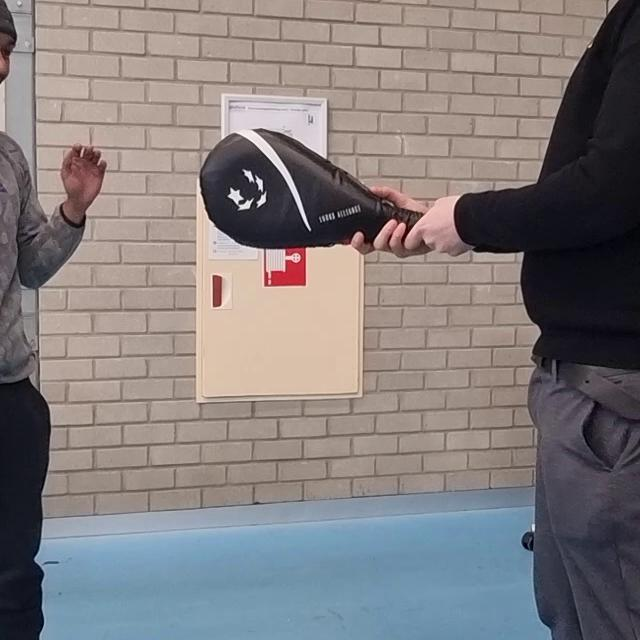paddle: (198, 130, 425, 249)
